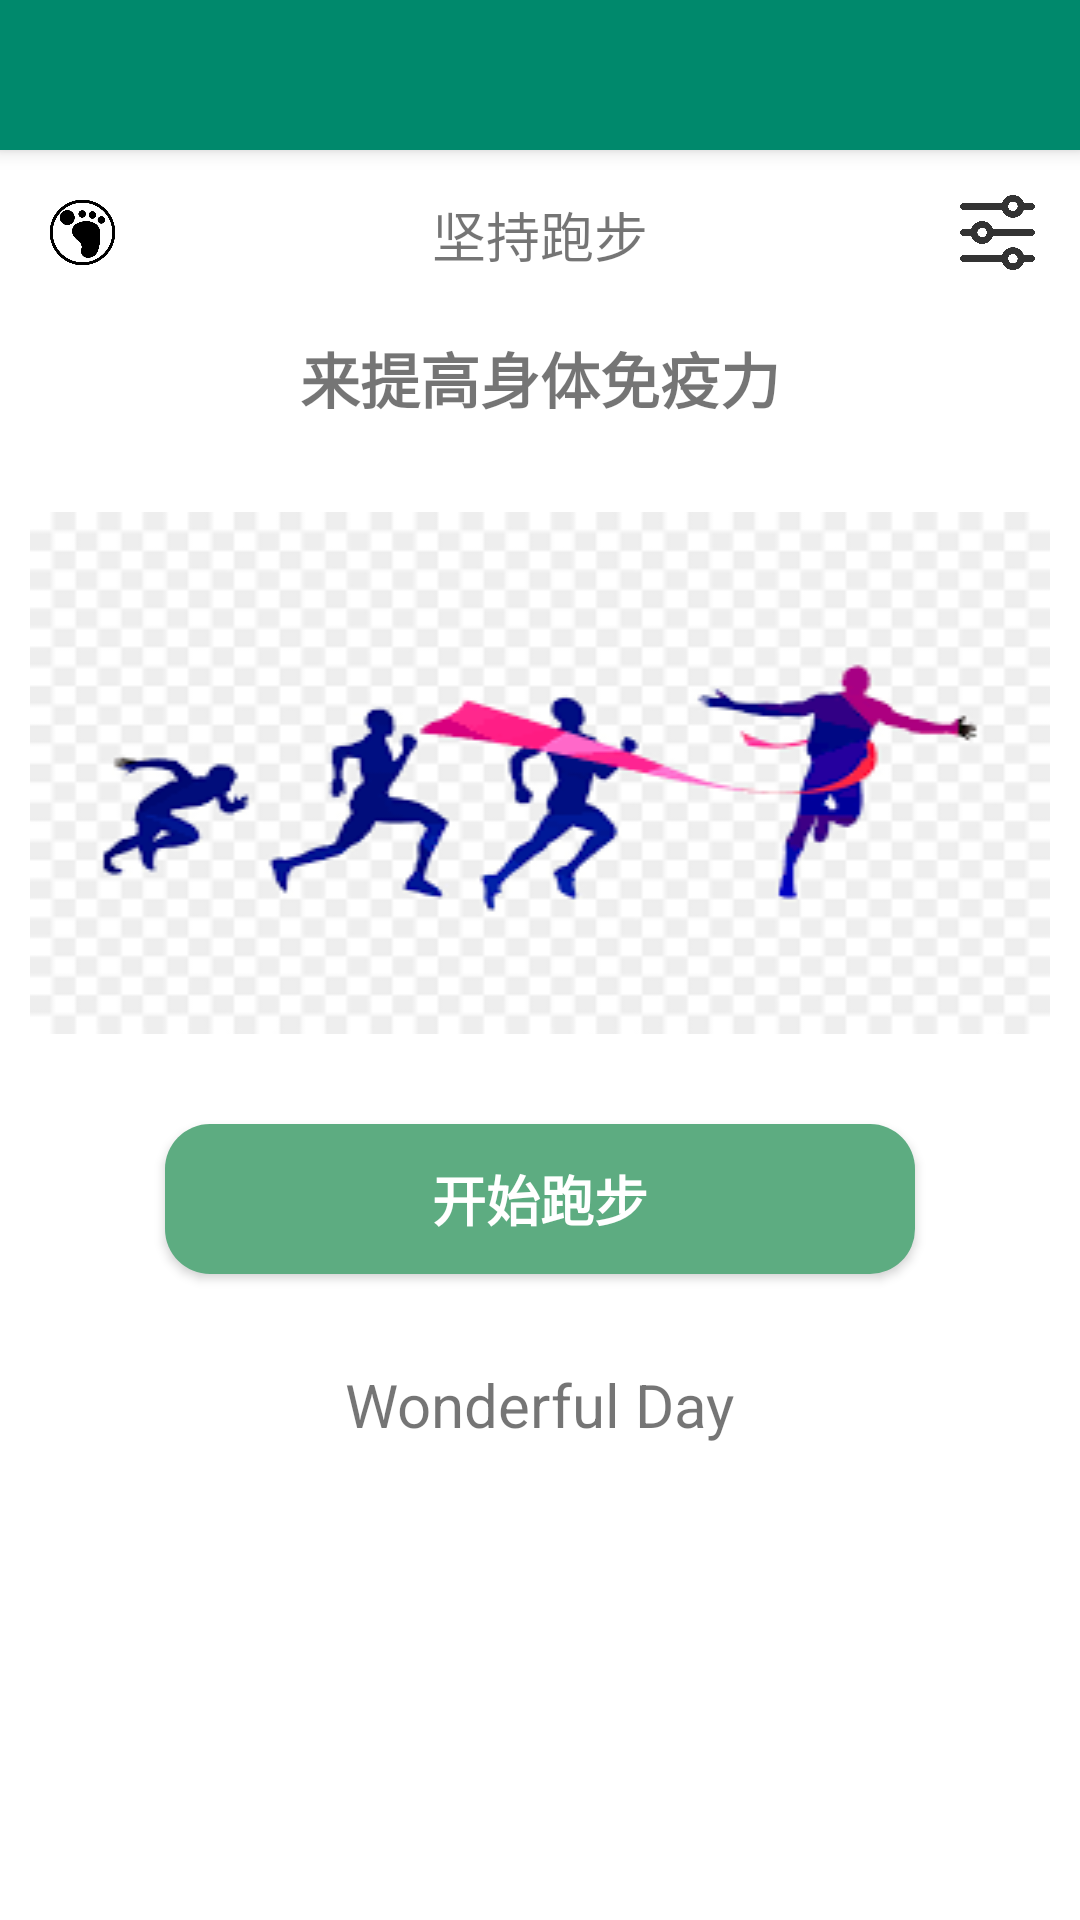

Named icons in this screenshot (1080px x 1920px) and their bounding boxes, (x1, y1, x2, y2):
page setting: (960, 195, 1035, 270)
